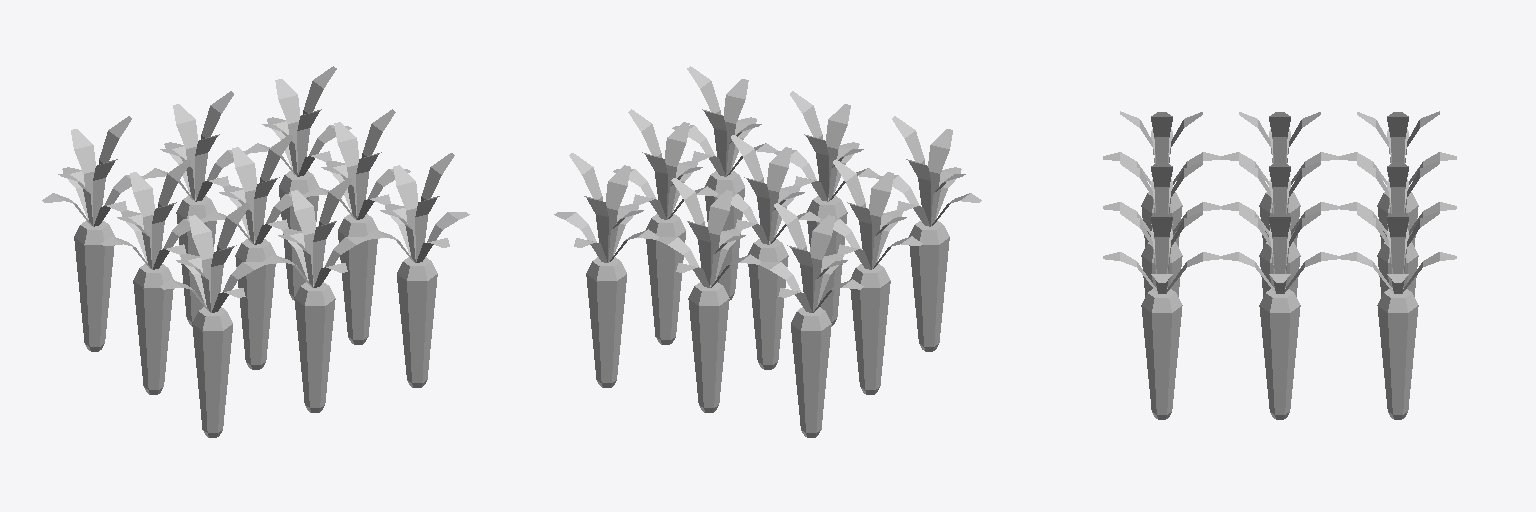
Rendered from carrots.obj.
3 renders of one model, left to right at view 1: azimuth 30°, elevation 25°; view 2: azimuth 150°, elevation 25°; view 3: azimuth 270°, elevation 25°, orthographic.
Parts seen in each view (by area): view 1: carrot.003; view 2: carrot.003; view 3: carrot.003.
Part boxes in pixels (x1,y1,x2,y2): carrot.003: (42,66,469,437); carrot.003: (554,66,981,437); carrot.003: (1103,111,1456,419).
Bounding box in the file's own units: 1.02 × 0.711 × 1.02.